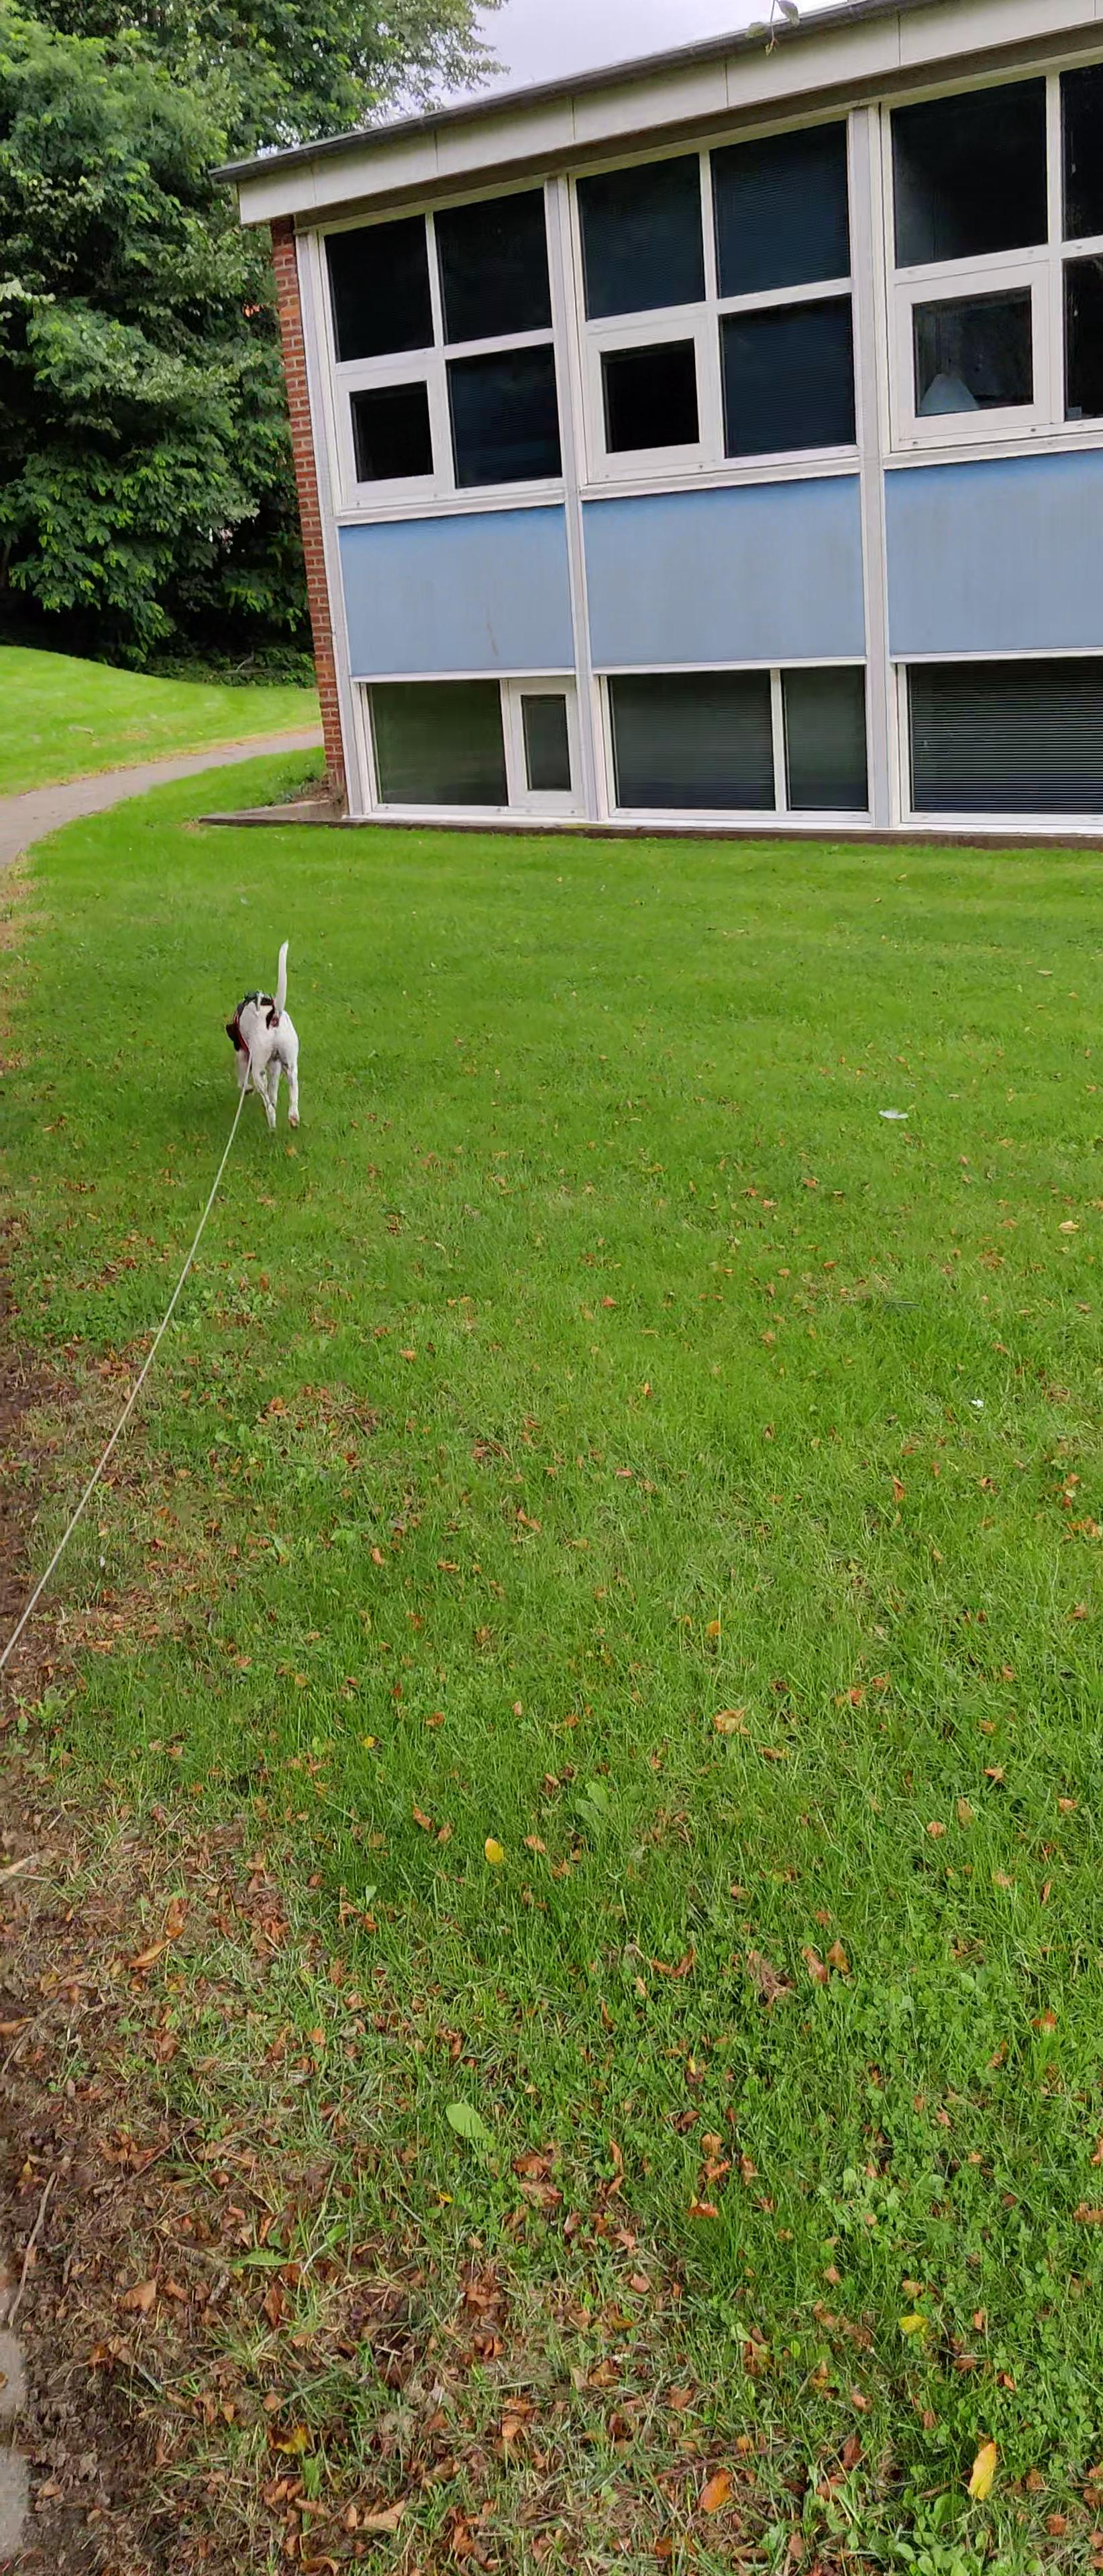Dog: (224, 936, 302, 1135)
